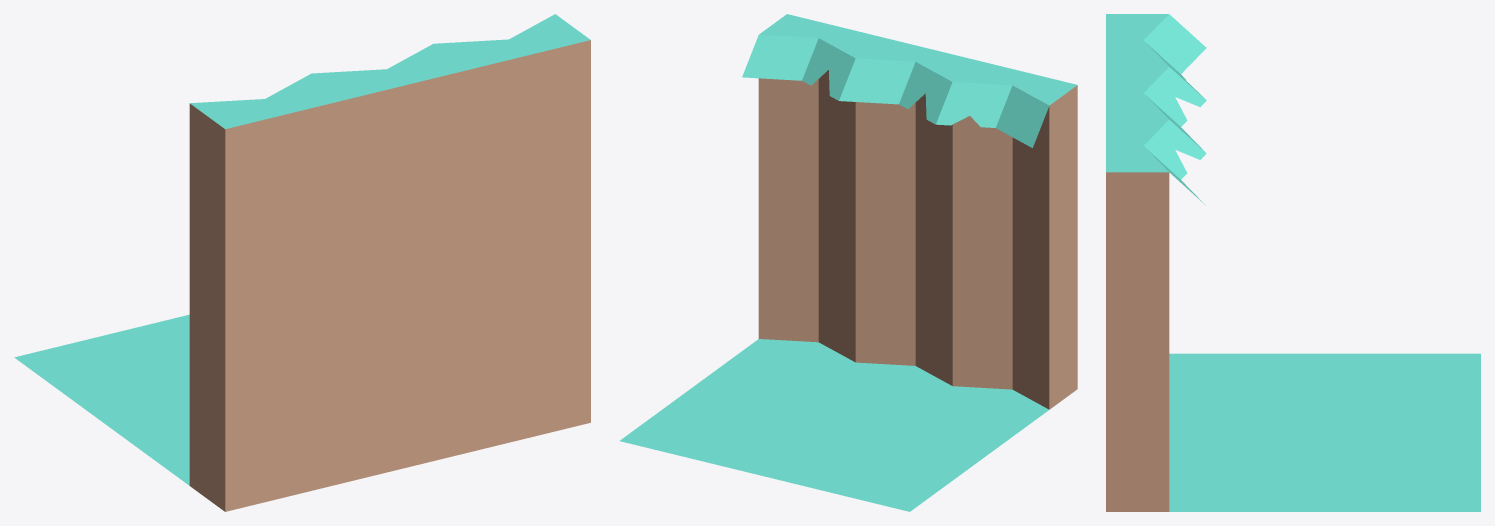
Rendered from cliff_top_rock_grass.glb.
The picture shows the model from 3 angles, left to right: view 1: azimuth 30°, elevation 25°; view 2: azimuth 150°, elevation 25°; view 3: azimuth 270°, elevation 25°; orthographic projection. The views are drawn at different scales.
Visible parts, largest first — view 1: cliff_top_rock_grass; view 2: cliff_top_rock_grass; view 3: cliff_top_rock_grass.
Boxes of the visible parts, x1=… form: cliff_top_rock_grass: x1=14, y1=14, x2=590, y2=511; cliff_top_rock_grass: x1=620, y1=14, x2=1077, y2=511; cliff_top_rock_grass: x1=1106, y1=14, x2=1480, y2=511.
Size of the model in its own units: 1 by 1 by 1.
